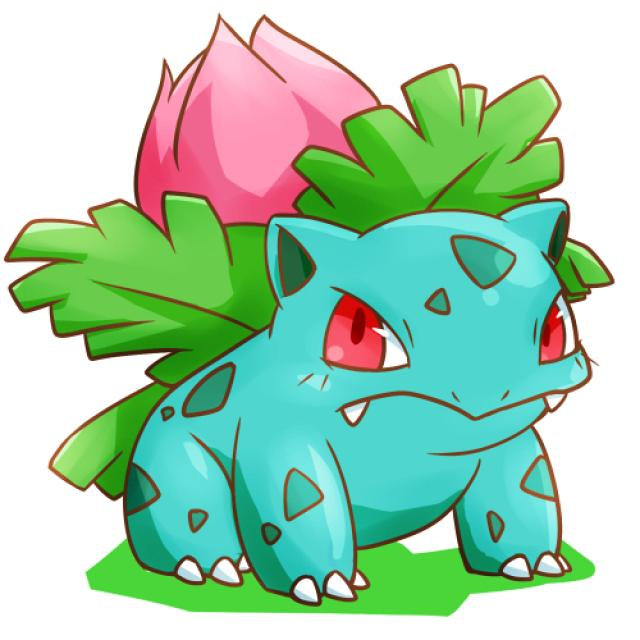Ivysaur: (124, 19, 579, 582)
